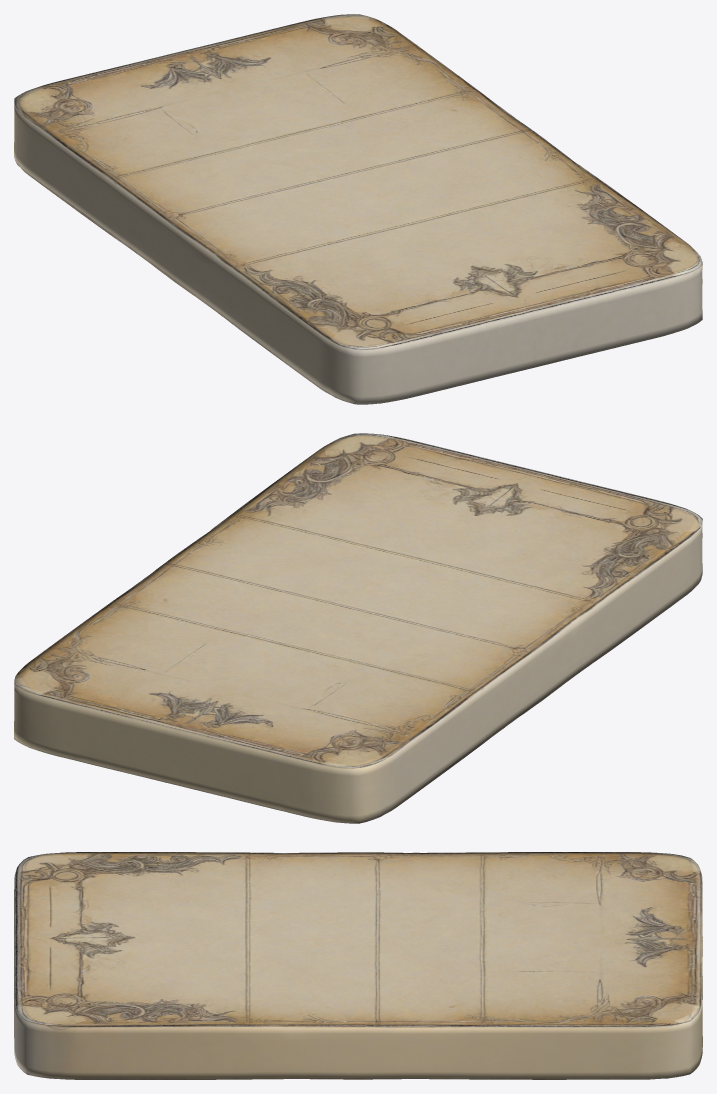
The model's file is create_a_model_for_a__0204181005_texture.fbx.
3 renders of one model, top to bottom at view 1: azimuth 30°, elevation 25°; view 2: azimuth 150°, elevation 25°; view 3: azimuth 270°, elevation 25°, orthographic. The views are drawn at different scales.
Visible parts, largest first — view 1: Mesh1_Mesh1.032; view 2: Mesh1_Mesh1.032; view 3: Mesh1_Mesh1.032.
Boxes of the visible parts, bbox=[...] form: Mesh1_Mesh1.032: bbox=[14, 14, 702, 404]; Mesh1_Mesh1.032: bbox=[14, 433, 702, 823]; Mesh1_Mesh1.032: bbox=[14, 852, 702, 1079].
Bounding box in the file's own units: 119 × 17.6 × 200.
Materials: 1 (1 with a texture image).
